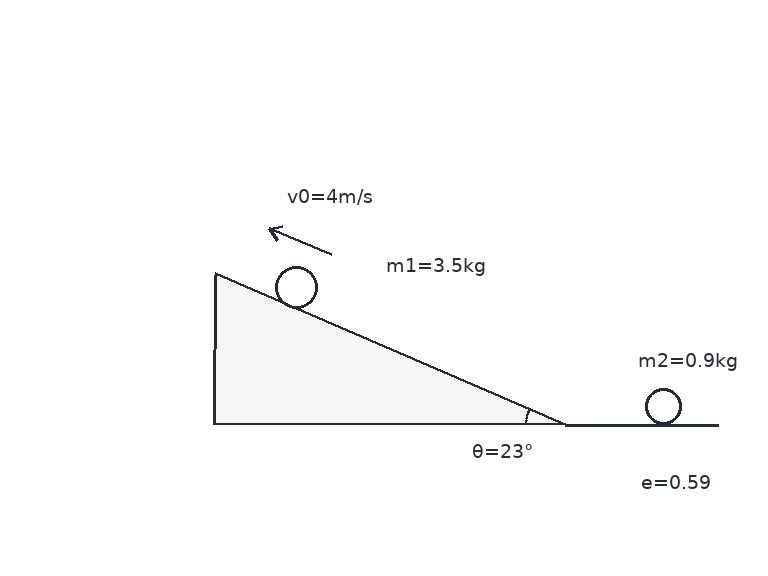ball: (273, 264, 319, 310), (643, 386, 683, 426)
ramp: (212, 273, 568, 426)
